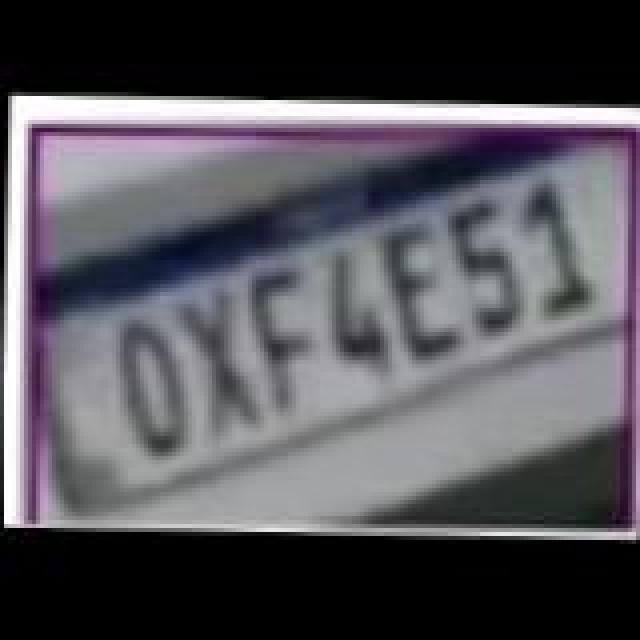1: (516, 184, 596, 324)
4: (318, 246, 398, 374)
5: (444, 200, 532, 336)
E: (382, 226, 470, 366)
F: (242, 264, 322, 412)
O: (110, 318, 194, 458)
X: (170, 292, 262, 440)
